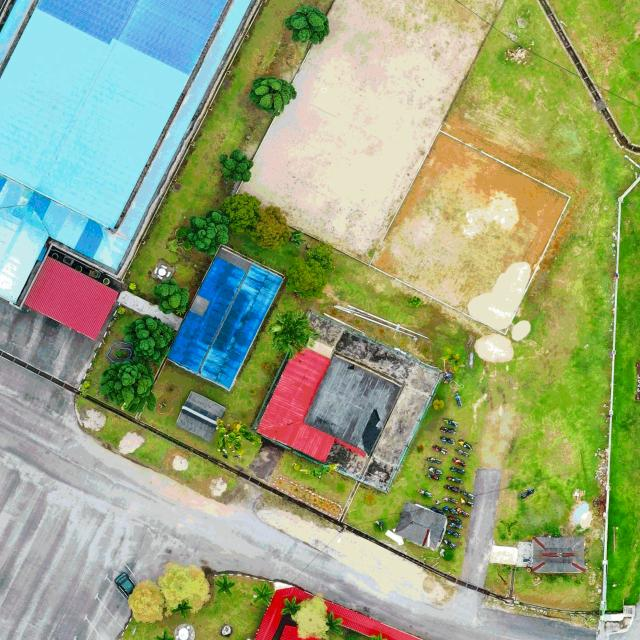Tree: (97, 357, 157, 415), (158, 561, 212, 617), (121, 313, 176, 364), (269, 308, 318, 360), (244, 204, 290, 252), (185, 209, 231, 256), (248, 76, 297, 118), (284, 255, 329, 299), (283, 4, 330, 46), (290, 591, 330, 640), (221, 191, 263, 235), (128, 578, 166, 625), (152, 278, 191, 314), (218, 148, 254, 183), (304, 239, 336, 275), (251, 582, 275, 607), (170, 598, 194, 620), (214, 574, 236, 597), (324, 612, 344, 636), (281, 595, 301, 615), (153, 629, 175, 640), (367, 633, 389, 640)
